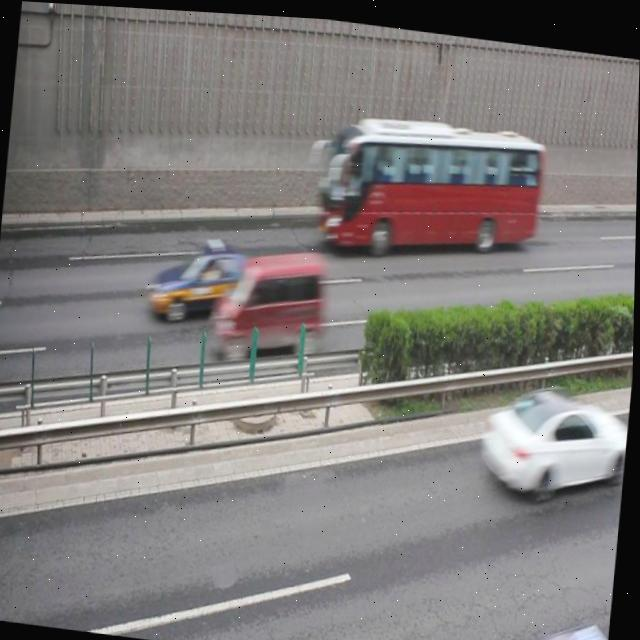car: (476, 371, 627, 500), (146, 228, 261, 329), (489, 615, 611, 640)
truck: (212, 240, 327, 364)
van: (309, 102, 543, 265)
